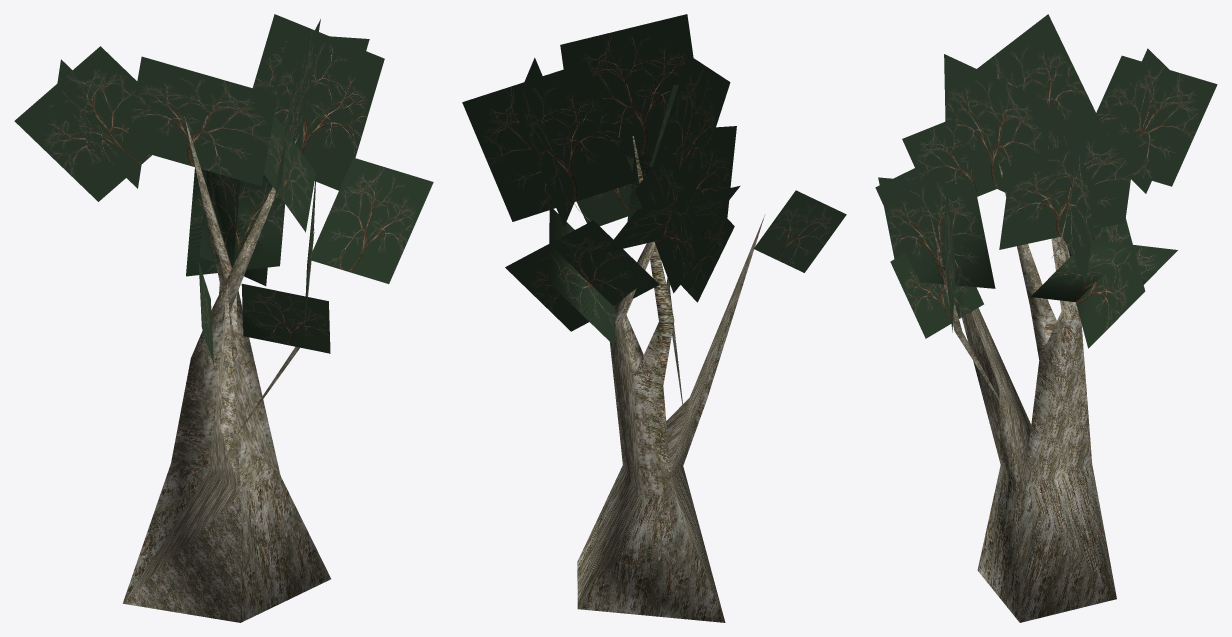
The model's file is decd_hollytreebranches_a1_l3.fbx.
3 views of the same model, side by side, from view 1: azimuth 30°, elevation 25°; view 2: azimuth 150°, elevation 25°; view 3: azimuth 270°, elevation 25° (orthographic). The views are drawn at different scales.
Visible parts, largest first — view 1: mesh_node; view 2: mesh_node; view 3: mesh_node.
Boxes of the visible parts, <box> form: mesh_node: <box>14,14,433,622</box>; mesh_node: <box>462,14,846,622</box>; mesh_node: <box>875,14,1217,622</box>.
Bounding box in the file's own units: 9.85 × 17.25 × 10.01.
2 materials, 2 textured.
